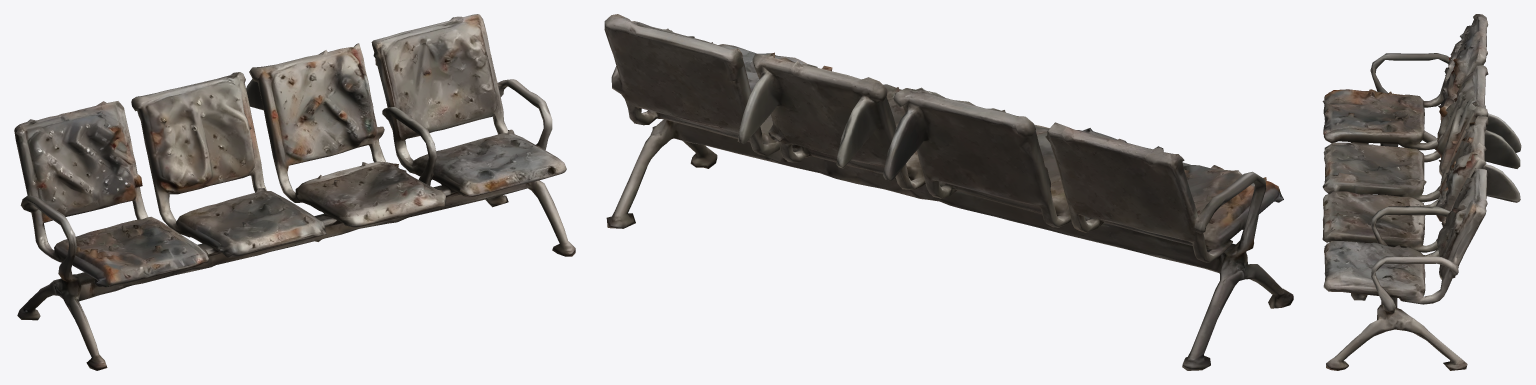
The model's file is tripo_convert_711afe0e-78a3-4009-b4e3-ac240555f366.fbx.
3 views of the same model, side by side, from view 1: azimuth 30°, elevation 25°; view 2: azimuth 150°, elevation 25°; view 3: azimuth 270°, elevation 25° (orthographic). The views are drawn at different scales.
Parts seen in each view (by area): view 1: tripo_node_711afe0e; view 2: tripo_node_711afe0e; view 3: tripo_node_711afe0e.
Part boxes in pixels (x1,y1,x2,y2): tripo_node_711afe0e: [14, 14, 575, 370]; tripo_node_711afe0e: [604, 14, 1293, 370]; tripo_node_711afe0e: [1322, 14, 1521, 370].
Bounding box in the file's own units: 1 × 0.3558 × 0.4043.
1 material, 1 textured.
